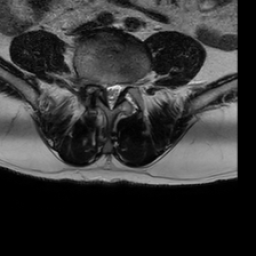CCS_normal: (107, 77, 113, 114)
LFS_severe_stenosis: (123, 75, 131, 96)
LLS_normal: (113, 78, 121, 101)
RFS_severe_stenosis: (89, 69, 100, 93)
RLS_severe_stenosis: (99, 75, 107, 96)
